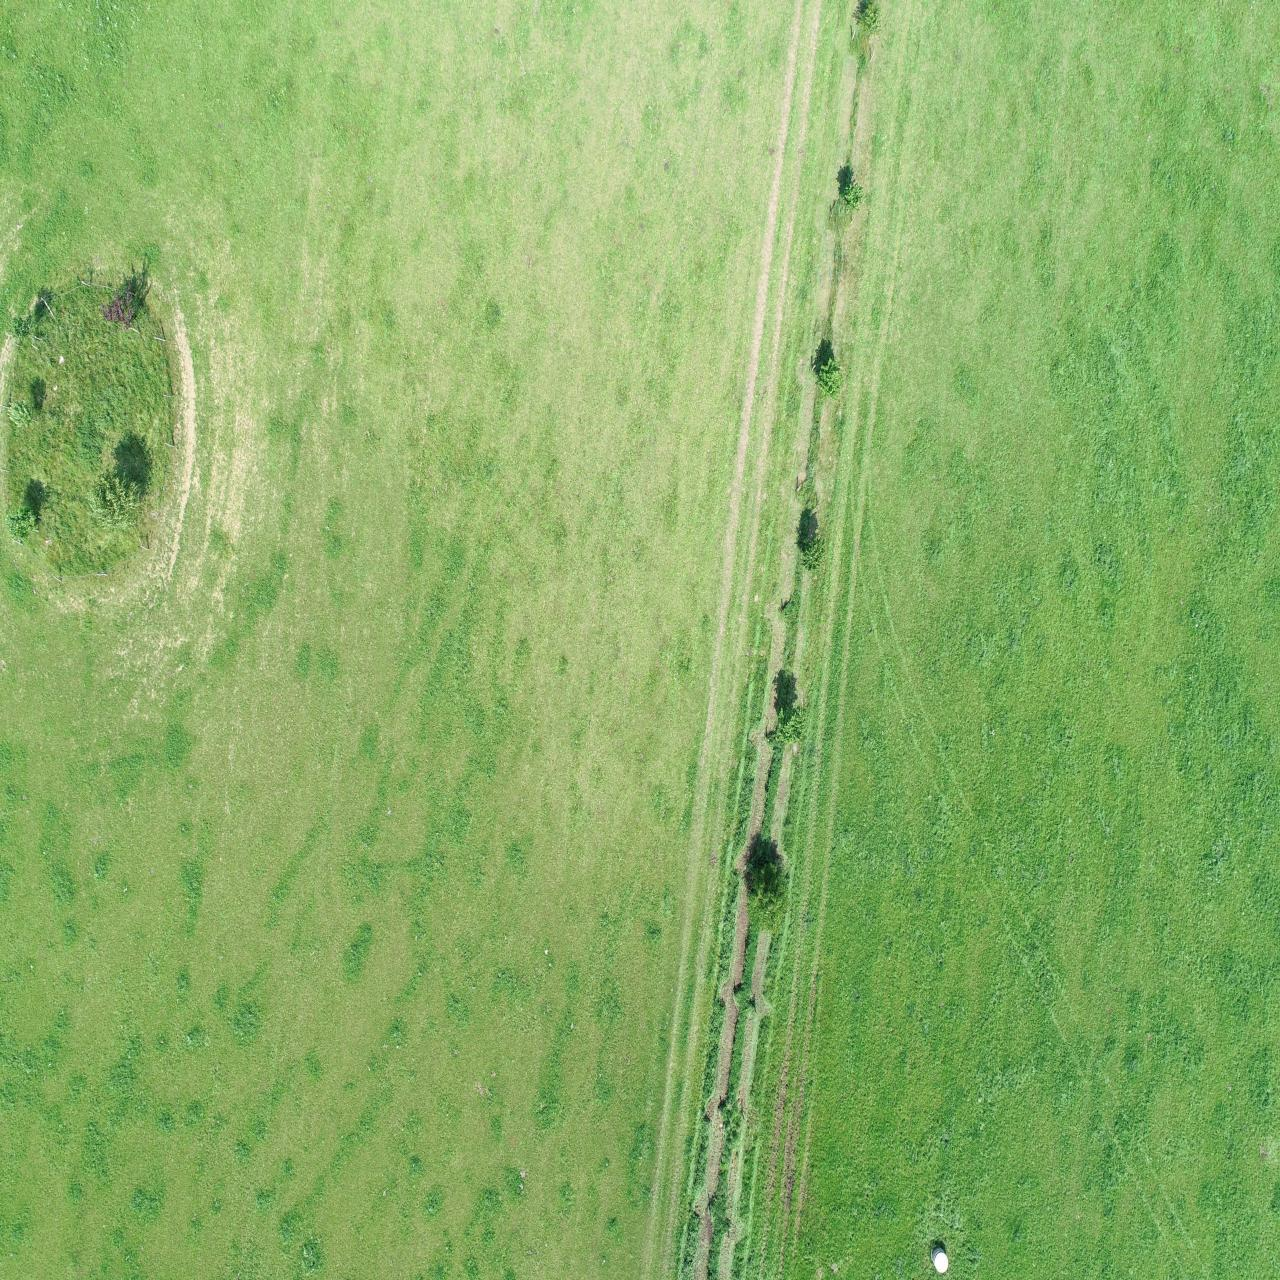cow: (1081, 1132, 1142, 1172), (1184, 1094, 1241, 1133), (979, 1035, 1036, 1073), (622, 1135, 656, 1198), (1210, 1206, 1258, 1250), (1199, 1136, 1252, 1173), (881, 1145, 933, 1183), (587, 1034, 626, 1080), (838, 1104, 891, 1136)
